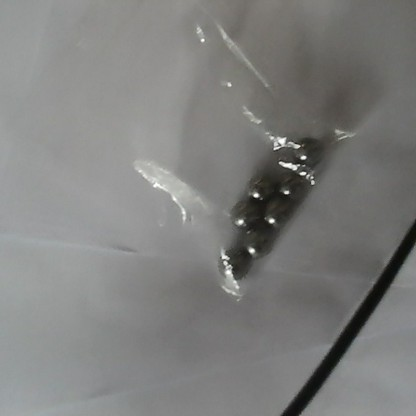ironball: (215, 242, 253, 281), (244, 172, 281, 208), (289, 134, 326, 168), (262, 196, 294, 227), (238, 232, 271, 261), (228, 202, 260, 230), (277, 173, 302, 201)
